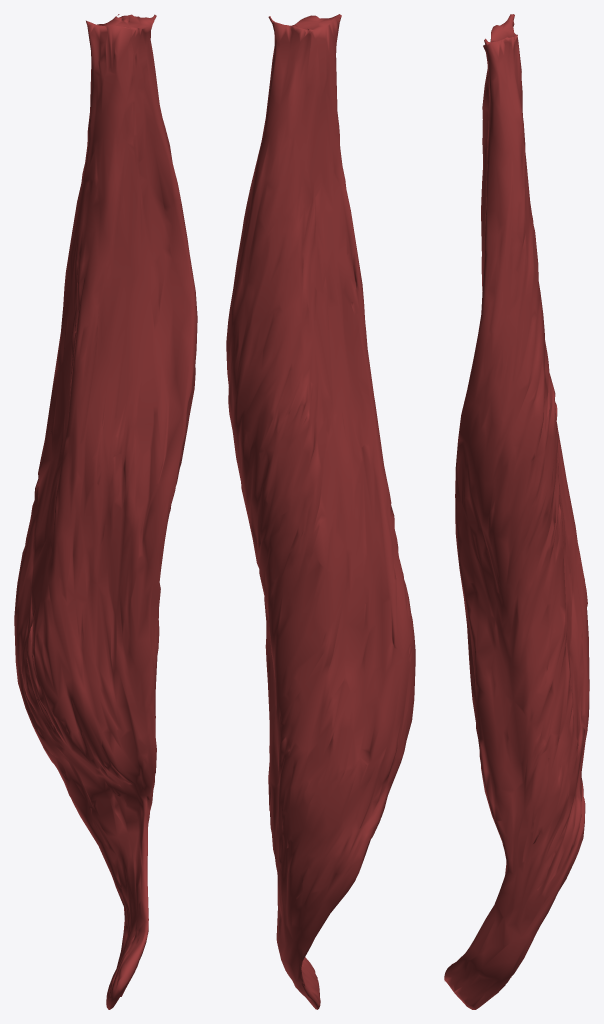
Rendered from semimembranosus-muscle-r.glb.
3 renders of one model, left to right at view 1: azimuth 30°, elevation 25°; view 2: azimuth 210°, elevation 25°; view 3: azimuth 270°, elevation 25°, orthographic. The views are drawn at different scales.
Visible parts, largest first — view 1: Semimembranosus muscle.r; view 2: Semimembranosus muscle.r; view 3: Semimembranosus muscle.r.
Part boxes in pixels (x1,y1,x2,y2): Semimembranosus muscle.r: (14, 14, 197, 1009); Semimembranosus muscle.r: (226, 14, 415, 1009); Semimembranosus muscle.r: (444, 14, 589, 1009).
Size of the model in its own units: 0.0638 by 0.4177 by 0.0551.
